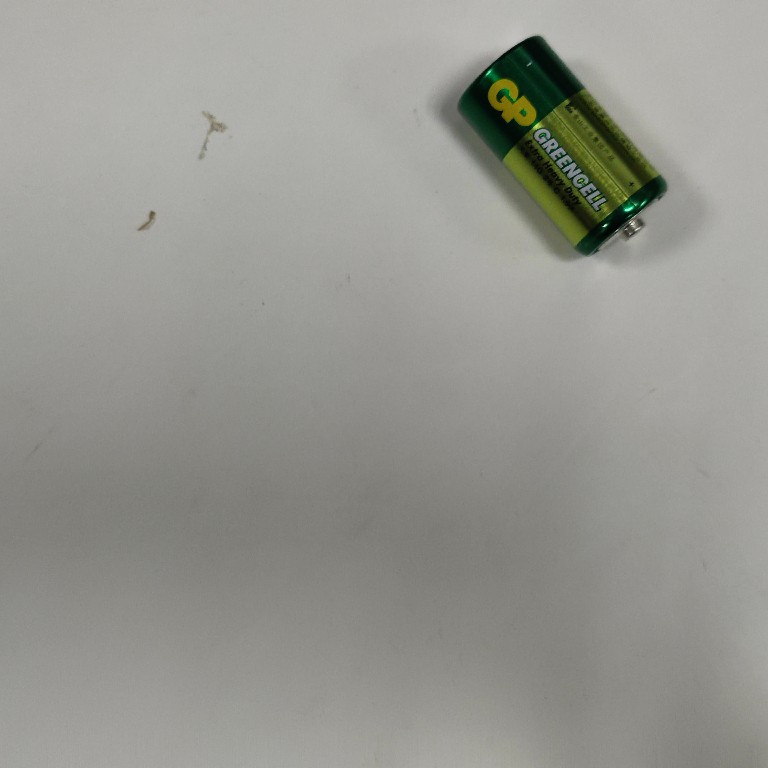charge: (451, 30, 673, 260)
